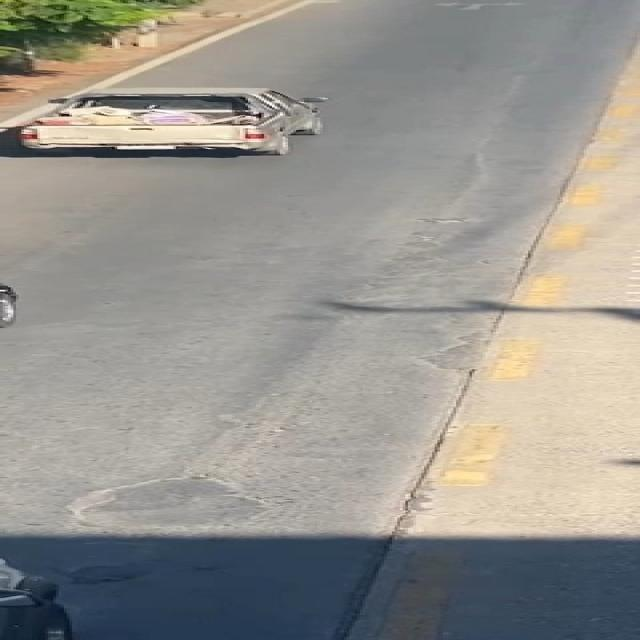car: (4, 74, 366, 163)
